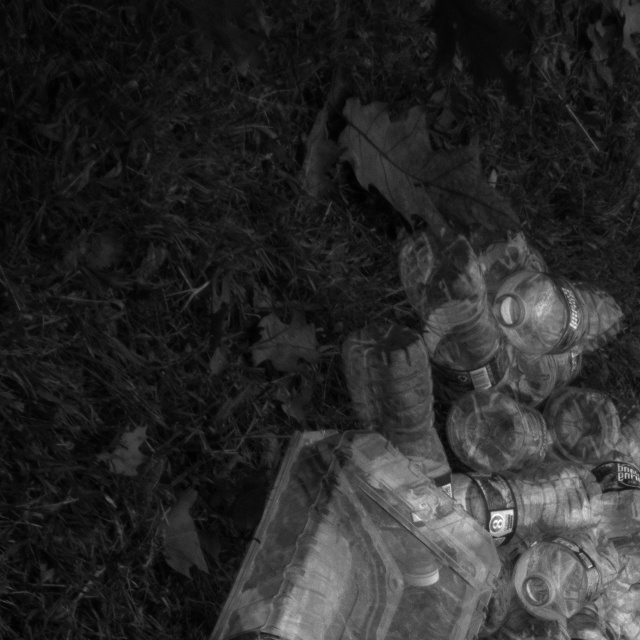bottle: (409, 232, 530, 420), (215, 508, 379, 640), (492, 256, 640, 391), (508, 512, 640, 640), (449, 460, 625, 551)
container: (165, 399, 492, 640)
